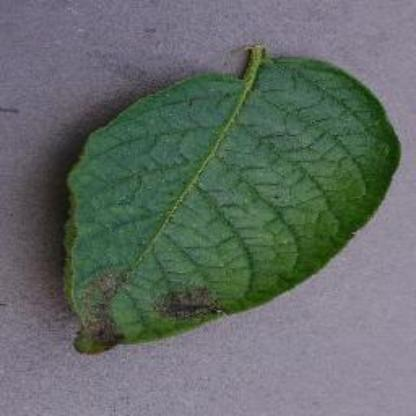Late-Blight: (28, 35, 404, 378)
